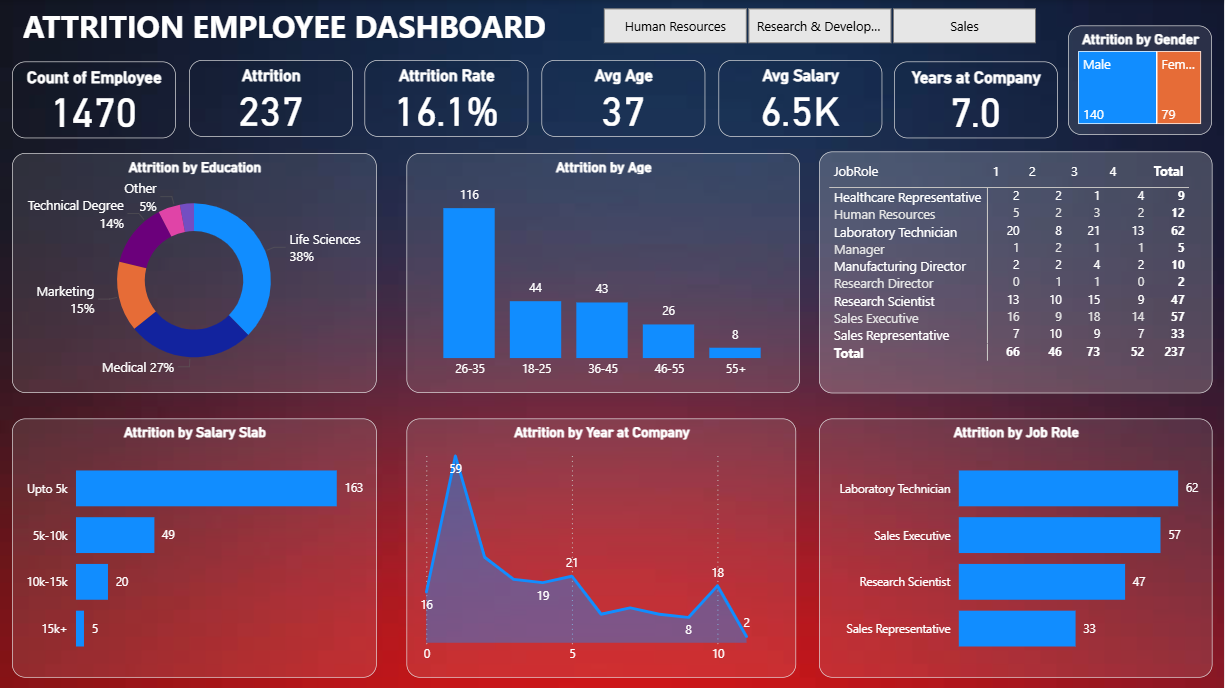

The page's visual inventory and layout, read from the dashboard file:
{"tool":"powerbi","page":{"name":"Page 1","canvas":[1280,720],"ordinal":0},"visuals":[{"type":"card","title":"Count of Employee","fields":{"Values":["CountNonNull(COMPANY DATA.EmpID)"]},"box":[2,63.1,170.4,79.7],"z":0},{"type":"card","title":"Attrition","fields":{"Values":["Sum(COMPANY DATA.AttritionCount)"]},"box":[188,63.1,170.4,79.7],"z":1000},{"type":"card","title":"Attrition Rate","fields":{"Values":["COMPANY DATA.AttritionRate"]},"box":[374,63.1,170.4,79.7],"z":2000},{"type":"card","title":"Avg Age","fields":{"Values":["Avg(COMPANY DATA.Age)"]},"box":[560,63.1,170.4,79.7],"z":3000},{"type":"card","title":"Avg Salary","fields":{"Values":["Avg(COMPANY DATA.MonthlyIncome)"]},"box":[747.6,63.1,170.4,79.7],"z":4000},{"type":"card","title":"Years at Company","fields":{"Values":["Avg(COMPANY DATA.YearsAtCompany)"]},"box":[935.1,64.6,170.4,79.7],"z":5000},{"type":"donutChart","title":" Attrition by Education","fields":{"Category":["COMPANY DATA.EducationField"],"Y":["Sum(COMPANY DATA.AttritionCount)"]},"box":[16,160,380,250],"z":6000},{"type":"columnChart","title":" Attrition by Age","fields":{"Category":["COMPANY DATA.AgeGroup"],"Y":["Sum(COMPANY DATA.AttritionCount)"]},"box":[426,160,410,250],"z":7000},{"type":"pivotTable","fields":{"Rows":["COMPANY DATA.JobRole"],"Columns":["COMPANY DATA.JobSatisfaction"],"Values":["Sum(COMPANY DATA.AttritionCount)"]},"box":[856,158,410,252],"z":8000},{"type":"barChart","title":" Attrition by Salary Slab","fields":{"Category":["COMPANY DATA.SalarySlab"],"Y":["Sum(COMPANY DATA.AttritionCount)"]},"box":[16,436,380,270],"z":9000},{"type":"barChart","title":" Attrition by Job Role","fields":{"Y":["Sum(COMPANY DATA.AttritionCount)"],"Category":["COMPANY DATA.JobRole"]},"box":[856,436,410,270],"z":10000},{"type":"areaChart","title":" Attrition by Year at Company","fields":{"Category":["COMPANY DATA.YearsAtCompany"],"Y":["Sum(COMPANY DATA.AttritionCount)"]},"box":[426,436,406,270],"z":11000},{"type":"treemap","title":" Attrition by Gender","fields":{"Group":["COMPANY DATA.Gender"],"Values":["Sum(COMPANY DATA.AttritionCount)"]},"box":[1116,26,150,114],"z":12000},{"type":"slicer","fields":{"Values":["COMPANY DATA.Department"]},"box":[606,2,500,50],"z":13000},{"type":"textbox","box":[21.7,0,598.3,50],"z":15000}]}

Visuals, with their boxes in screenshot pixels (x1, y1, x2, y2), scaled from the page's 1280x720 canvas onto the 1225x688 screenshot:
"Count of Employee" card: bbox=[2, 60, 165, 136]
"Attrition" card: bbox=[180, 60, 343, 136]
"Attrition Rate" card: bbox=[358, 60, 521, 136]
"Avg Age" card: bbox=[536, 60, 699, 136]
"Avg Salary" card: bbox=[715, 60, 879, 136]
"Years at Company" card: bbox=[895, 62, 1058, 138]
" Attrition by Education" donutChart: bbox=[15, 153, 379, 392]
" Attrition by Age" columnChart: bbox=[408, 153, 800, 392]
pivotTable - COMPANY DATA.JobRole x COMPANY DATA.JobSatisfaction: bbox=[819, 151, 1212, 392]
" Attrition by Salary Slab" barChart: bbox=[15, 417, 379, 675]
" Attrition by Job Role" barChart: bbox=[819, 417, 1212, 675]
" Attrition by Year at Company" areaChart: bbox=[408, 417, 796, 675]
" Attrition by Gender" treemap: bbox=[1068, 25, 1212, 134]
slicer - COMPANY DATA.Department: bbox=[580, 2, 1058, 50]
textbox: bbox=[21, 0, 593, 48]
